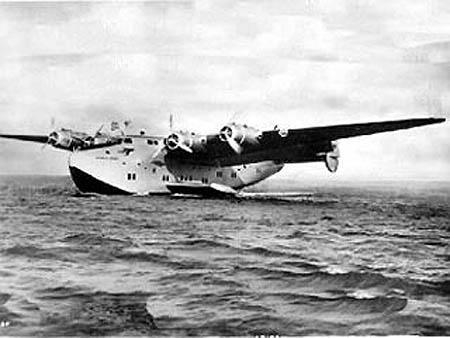warship: (9, 94, 437, 190)
